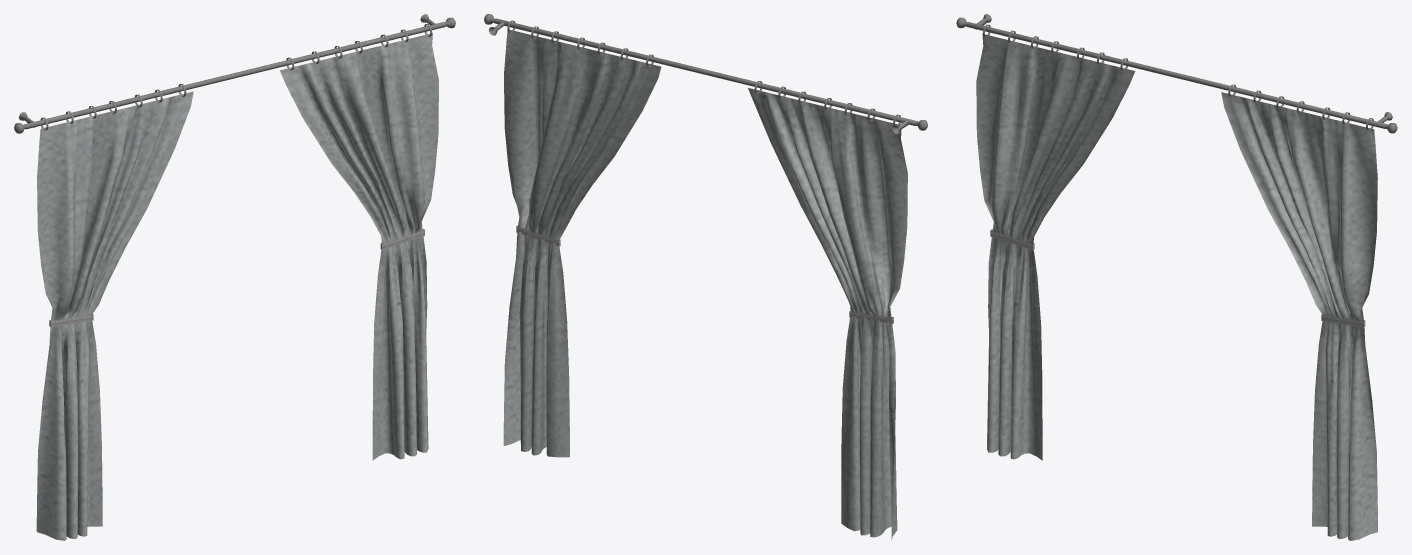
The model's file is Curtains_House_B.FBX.
3 views of the same model, side by side, from view 1: azimuth 30°, elevation 25°; view 2: azimuth 150°, elevation 25°; view 3: azimuth 330°, elevation 25° (orthographic).
Parts seen in each view (by area): view 1: Curtains_House_B; view 2: Curtains_House_B; view 3: Curtains_House_B.
Part boxes in pixels (<box>): Curtains_House_B: <box>14,14,455,540</box>; Curtains_House_B: <box>484,14,927,540</box>; Curtains_House_B: <box>956,14,1397,540</box>.
Bounding box in the file's own units: 259 × 238 × 20.89.
